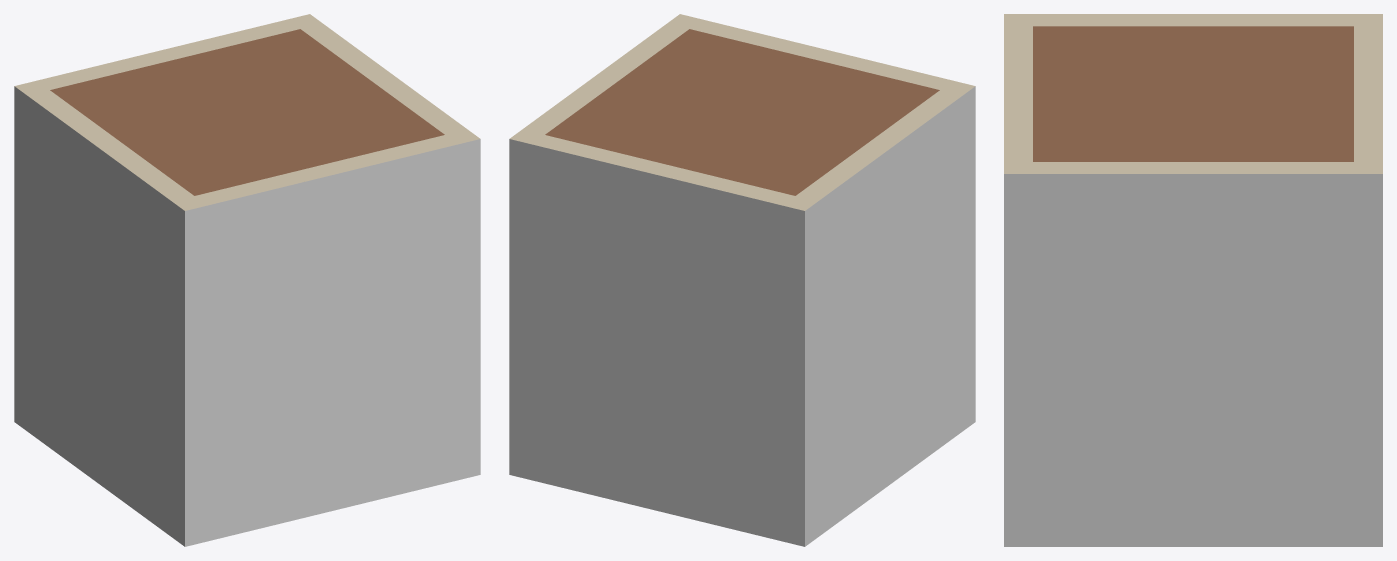
The model's file is planterbox.dae.
The picture shows the model from 3 angles, left to right: view 1: azimuth 30°, elevation 25°; view 2: azimuth 150°, elevation 25°; view 3: azimuth 270°, elevation 25°; orthographic projection. The views are drawn at different scales.
Visible parts, largest first — view 1: Colmesh-1, planterbox_a020; view 2: Colmesh-1, planterbox_a020; view 3: Colmesh-1, planterbox_a020.
Part boxes in pixels (x1=…): Colmesh-1: x1=14, y1=86, x2=480, y2=546; planterbox_a020: x1=14, y1=14, x2=480, y2=210; Colmesh-1: x1=509, y1=86, x2=975, y2=546; planterbox_a020: x1=509, y1=14, x2=975, y2=210; Colmesh-1: x1=1004, y1=174, x2=1382, y2=546; planterbox_a020: x1=1004, y1=14, x2=1382, y2=173.
Bounding box in the file's own units: 0.9209 × 0.9209 × 1.03.
